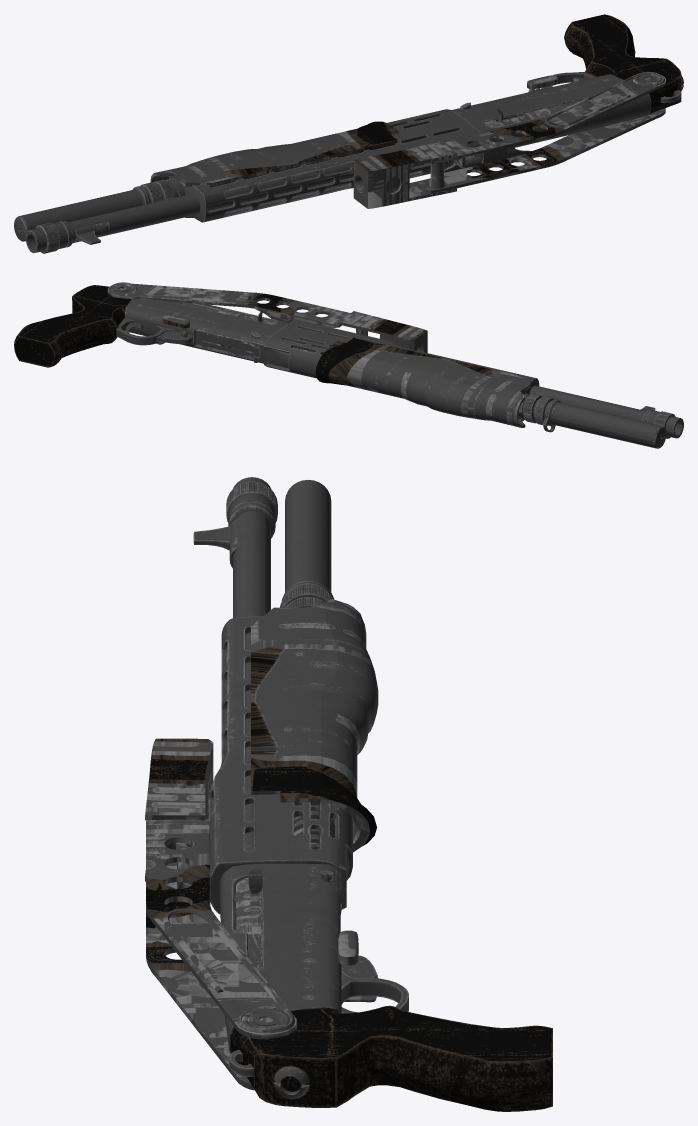
Rendered from shotgun.obj.
3 renders of one model, top to bottom at view 1: azimuth 30°, elevation 25°; view 2: azimuth 150°, elevation 25°; view 3: azimuth 270°, elevation 25°, orthographic. The views are drawn at different scales.
Parts seen in each view (by area): view 1: frame, stock, heat_keeper, ejector, bolt; view 2: frame, ejector, stock, heat_keeper, shell_loader, bolt, saftey_low; view 3: frame, stock, ejector, heat_keeper, bolt.
Boxes of the visible parts, left/top/right/bottom form: frame: left=14, top=14, right=683, bottom=253; stock: left=353, top=71, right=665, bottom=208; heat_keeper: left=169, top=109, right=480, bottom=222; ejector: left=150, top=121, right=398, bottom=217; bolt: left=483, top=97, right=586, bottom=127; frame: left=14, top=285, right=683, bottom=448; ejector: left=315, top=337, right=530, bottom=427; stock: left=107, top=282, right=427, bottom=352; heat_keeper: left=263, top=319, right=539, bottom=416; shell_loader: left=195, top=329, right=259, bottom=357; bolt: left=181, top=303, right=276, bottom=324; saftey_low: left=162, top=315, right=189, bottom=337; frame: left=193, top=477, right=552, bottom=1111; stock: left=145, top=738, right=296, bottom=1090; ejector: left=251, top=599, right=378, bottom=852; heat_keeper: left=177, top=616, right=352, bottom=914; bolt: left=236, top=868, right=262, bottom=969.
Size of the model in its own units: 53.17 by 3.37 by 15.77.
